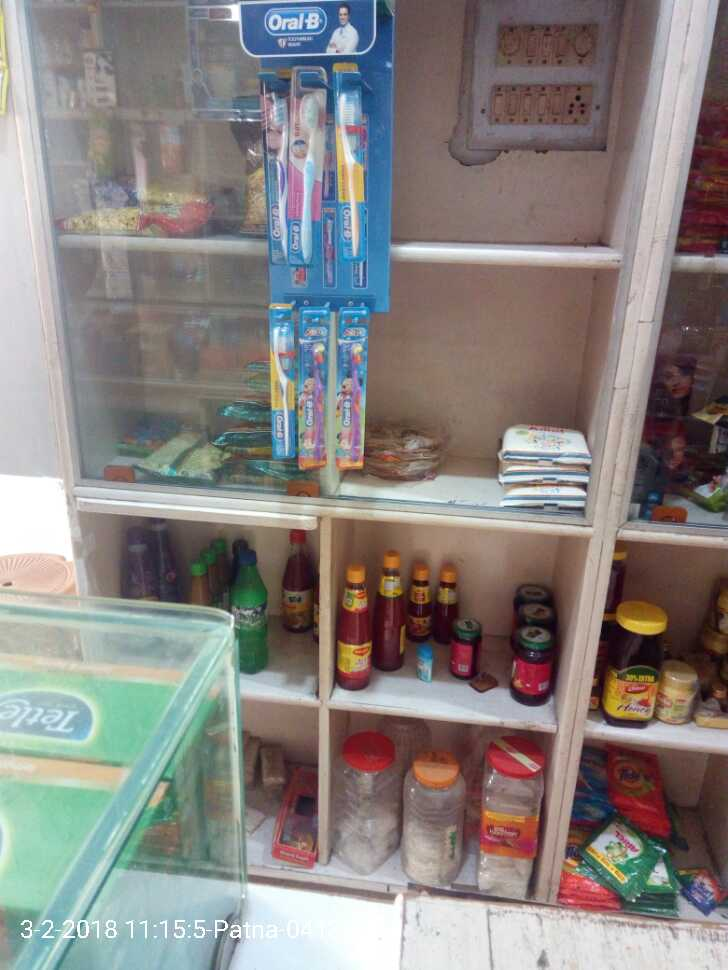oralb: (264, 75, 374, 272), (264, 305, 373, 467)
